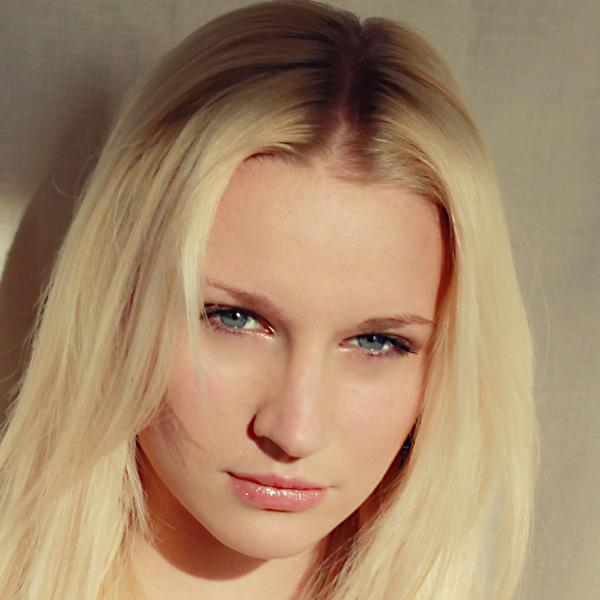Eyes: (188, 292, 280, 347), (334, 321, 415, 368)
